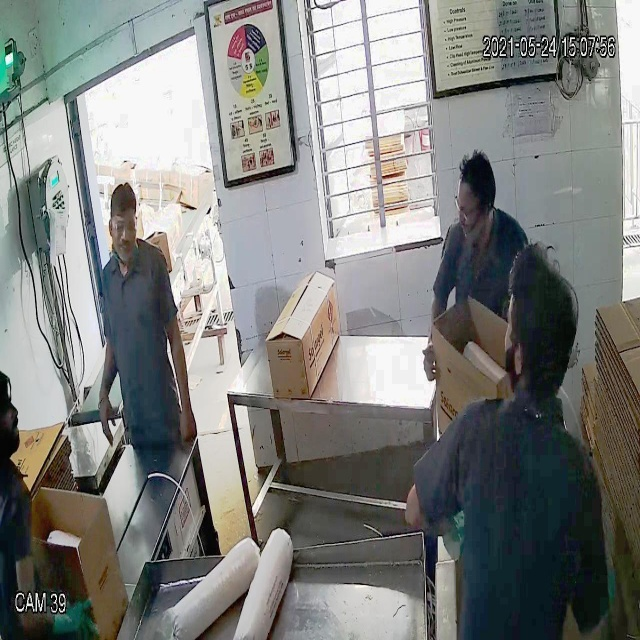Gafas: (107, 212, 138, 236)
